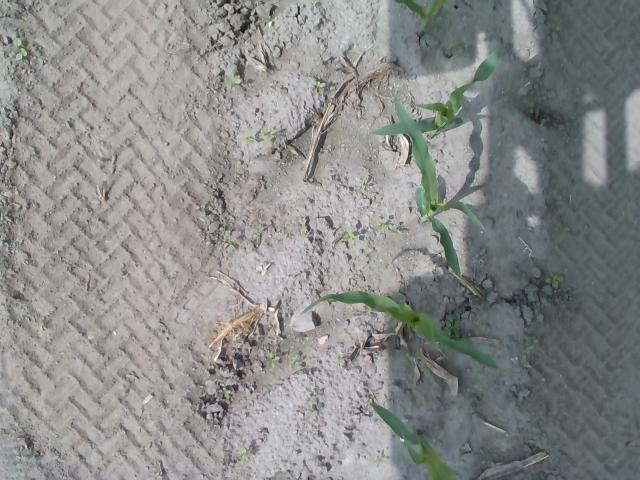Maize: (393, 92, 489, 278), (298, 290, 498, 371), (370, 44, 504, 136), (367, 398, 458, 480), (394, 0, 452, 38)
Weeds: (242, 128, 277, 144), (543, 271, 568, 290), (444, 314, 462, 336), (12, 38, 28, 60), (264, 353, 282, 370), (378, 217, 397, 233), (554, 225, 572, 241), (222, 232, 235, 252), (344, 228, 358, 246), (224, 75, 242, 88), (237, 448, 250, 466), (216, 386, 230, 399), (420, 360, 432, 374), (456, 38, 472, 48), (552, 17, 562, 32), (528, 102, 540, 114), (290, 357, 302, 369), (526, 342, 538, 354), (400, 352, 412, 363), (312, 80, 326, 88), (470, 322, 480, 333), (538, 120, 545, 133), (38, 56, 48, 65), (336, 353, 344, 362), (264, 16, 272, 22)
